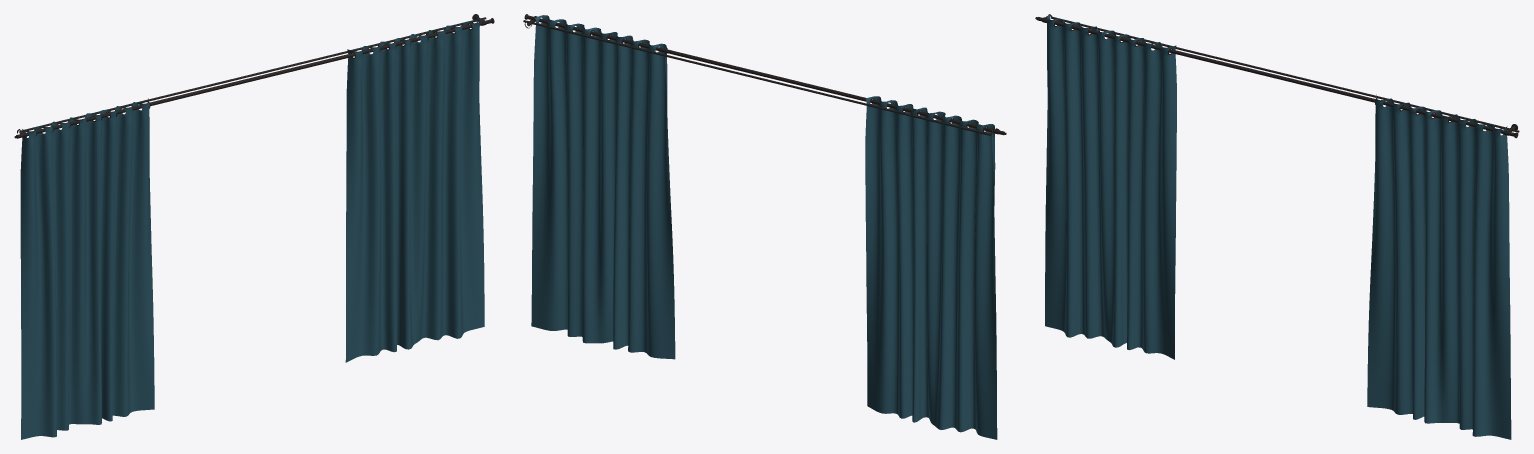
The model's file is curtain.glb.
3 views of the same model, side by side, from view 1: azimuth 30°, elevation 25°; view 2: azimuth 150°, elevation 25°; view 3: azimuth 330°, elevation 25° (orthographic).
Parts seen in each view (by area): view 1: right, left, Object_2.028, Object_2.062; view 2: right, left, Object_2.028, Object_2.062; view 3: right, left, Object_2.028, Object_2.062.
Boxes of the visible parts, <box> form: right: <box>345,17,484,362</box>; left: <box>20,98,154,439</box>; Object_2.028: <box>17,19,491,138</box>; Object_2.062: <box>21,17,486,130</box>; right: <box>531,15,675,359</box>; left: <box>865,96,997,439</box>; Object_2.028: <box>527,15,1003,134</box>; Object_2.062: <box>523,20,989,135</box>; right: <box>1367,94,1511,439</box>; left: <box>1045,14,1176,359</box>; Object_2.028: <box>1037,17,1513,136</box>; Object_2.062: <box>1051,16,1519,132</box>.
Bounding box in the file's own units: 4.02 × 2.49 × 0.1776.
Materials: 1 (1 with a texture image).
